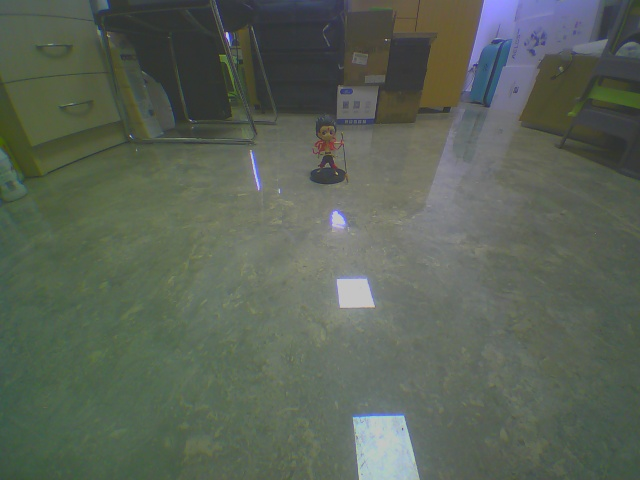Nezha: (303, 111, 372, 202)
